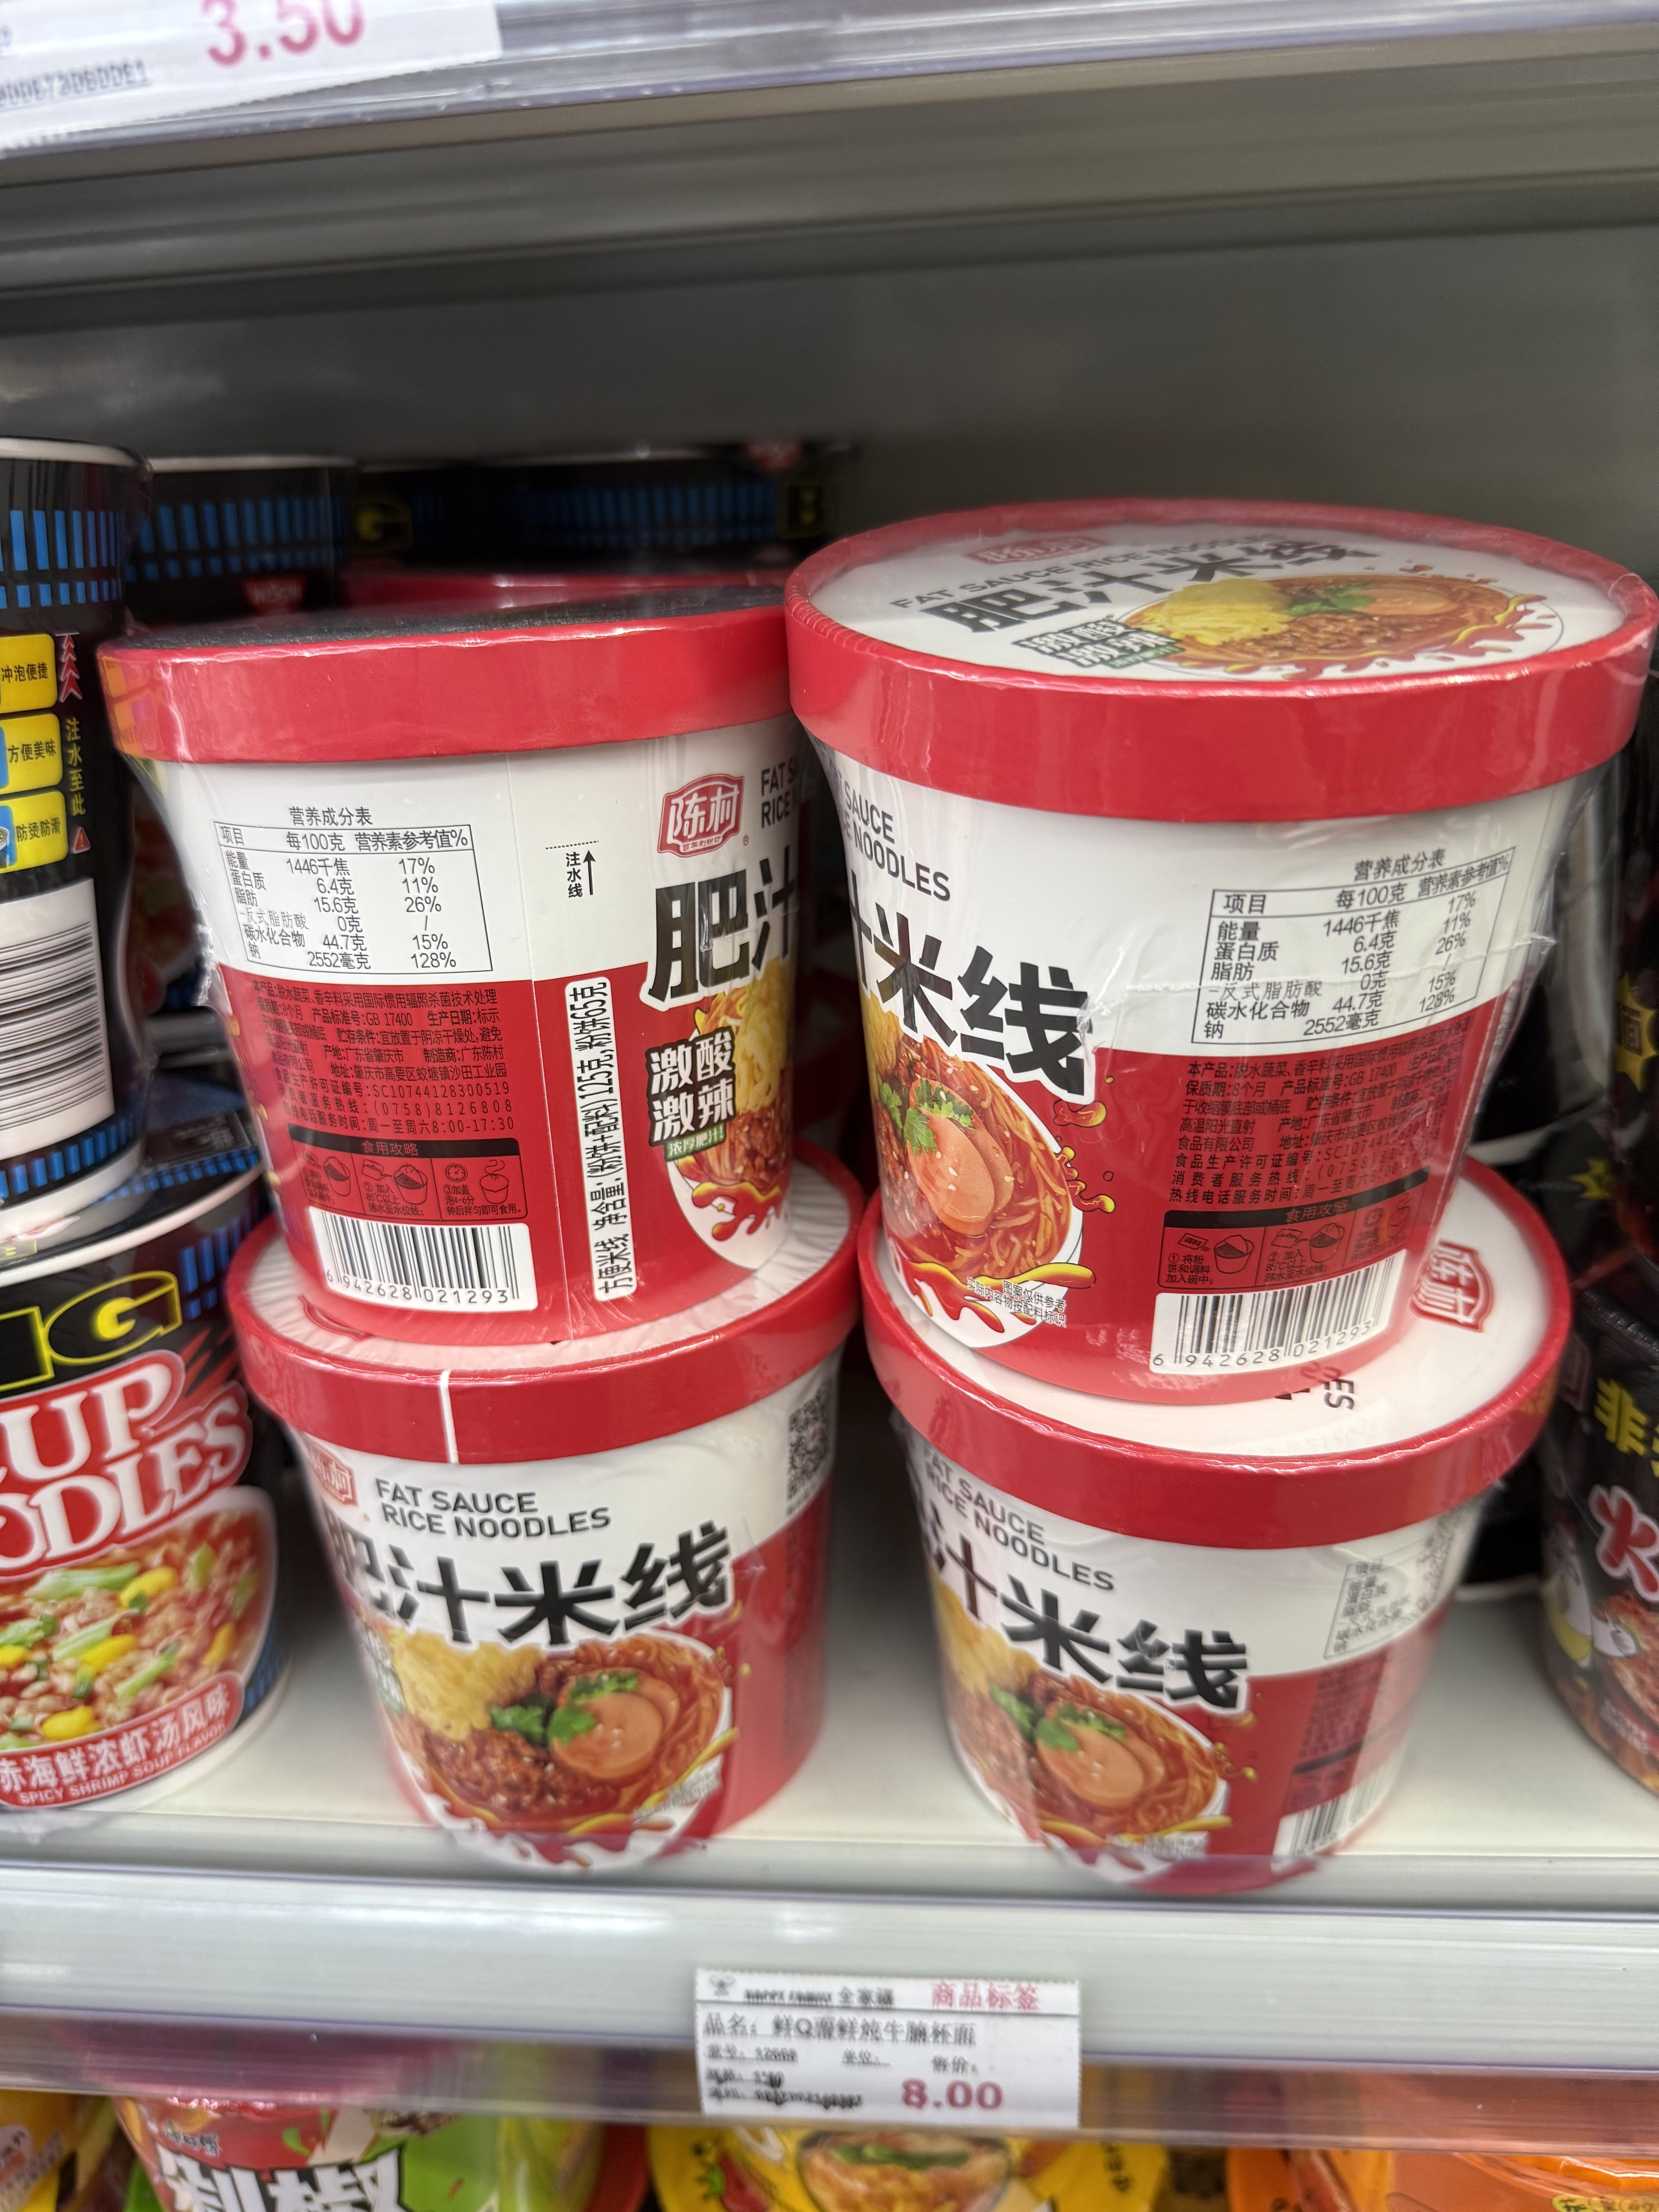bar: (1169, 1249, 1401, 1366), (314, 1209, 528, 1306)
